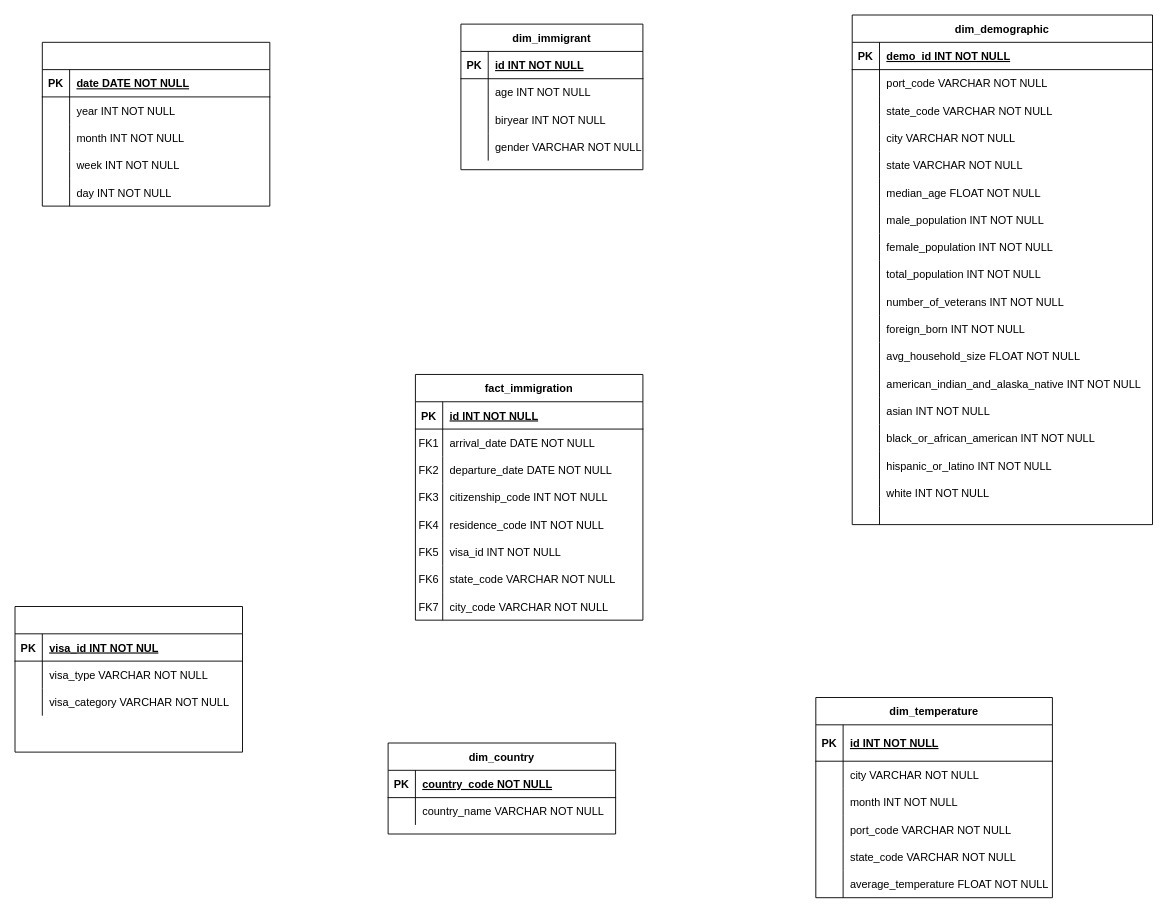
Some shapes in this 1168 by 913 pixel diagram are drawn without their labels. The box of each missing label's shape, as (x1, y1, x2, y2) in pixels:
dim_date: (41, 41, 270, 206)
dim_visa: (14, 606, 243, 752)
